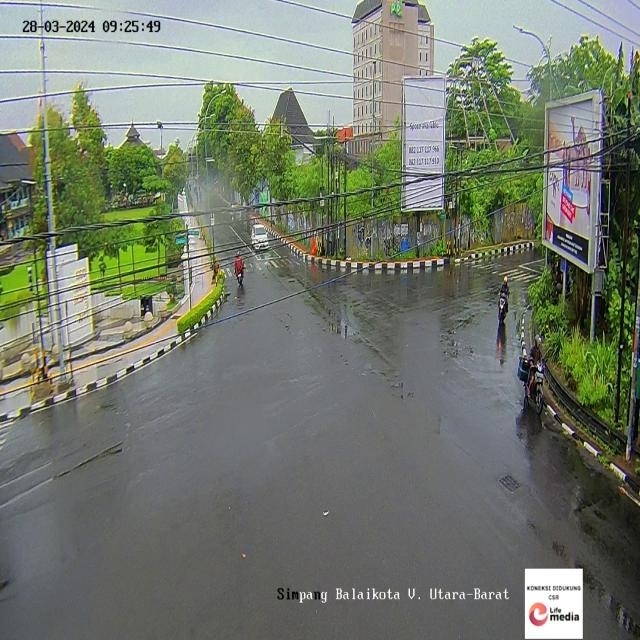car: (251, 223, 269, 249)
motorcycle: (524, 331, 546, 418), (497, 274, 510, 320), (234, 250, 245, 288)
